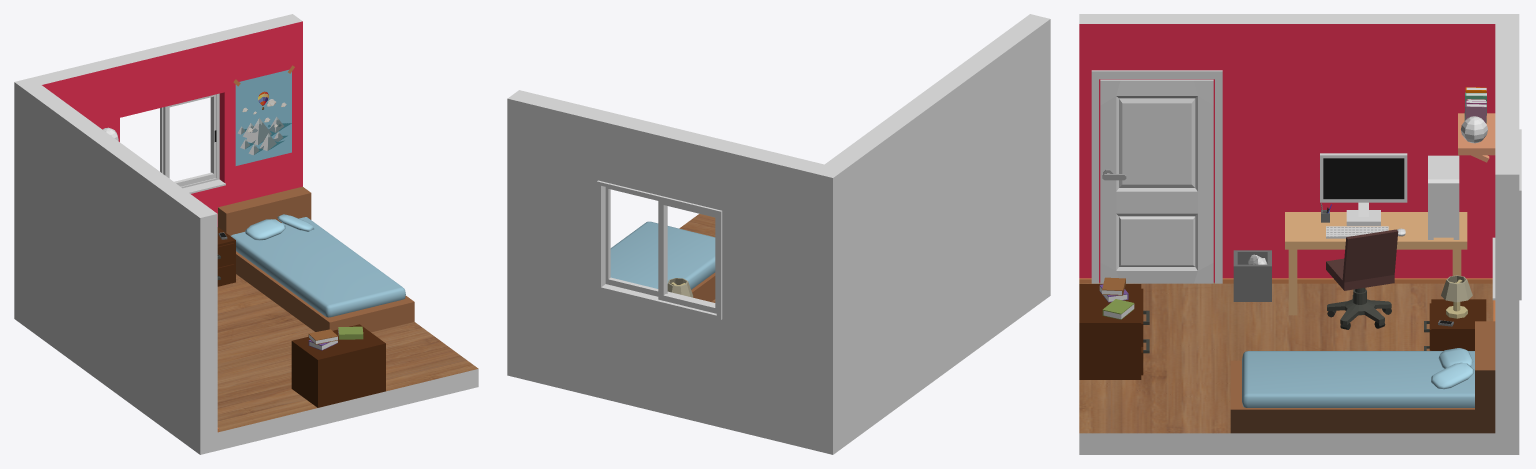
File: room.glb
The picture shows the model from 3 angles, left to right: view 1: azimuth 30°, elevation 25°; view 2: azimuth 150°, elevation 25°; view 3: azimuth 270°, elevation 25°; orthographic projection. The views are drawn at different scales.
Visible parts, largest first — view 1: Cube.002, Cube.002_UberTexture_0.002; view 2: Cube.002, Cube.002_UberTexture_0.002; view 3: Cube.002.
Part boxes in pixels (left/top/right/bottom): Cube.002: left=14, top=14, right=478, bottom=454; Cube.002_UberTexture_0.002: left=14, top=82, right=198, bottom=289; Cube.002: left=507, top=14, right=1050, bottom=454; Cube.002_UberTexture_0.002: left=833, top=104, right=1049, bottom=262; Cube.002: left=1079, top=14, right=1521, bottom=454.
Bounding box in the file's own units: 320 × 260 × 372.
3 materials, 2 textured.
